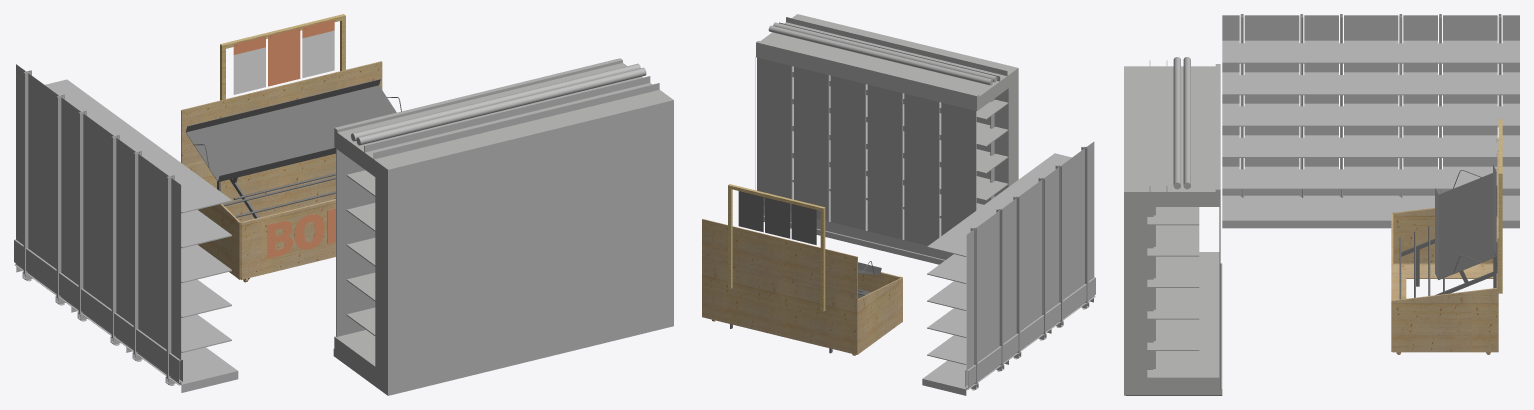
File: supermarket.dae
3 renders of one model, left to right at view 1: azimuth 30°, elevation 25°; view 2: azimuth 150°, elevation 25°; view 3: azimuth 270°, elevation 25°, orthographic. The views are drawn at different scales.
Parts seen in each view (by area): view 1: AH_Koeling_002, Aktie_tafe, AH_Koeling, AH_Koeling_001, AH_Stellin_001, AH_Stellin, AH_Stellin_002, AH_Koeli01_002; view 2: Aktie_tafe, AH_Koeling_002, AH_Koeling_001, AH_Koeling, AH_Stellin_002, AH_Stellin, AH_Stellin_001, AH_Koeli01_002, AH_Koeli01, AH_Koeli01_001; view 3: AH_Stellin_001, AH_Stellin, AH_Stellin_002, Aktie_tafe, AH_Koeling, AH_Koeli01, AH_Koeling_002, AH_Koeling_001.
Boxes of the visible parts, <box> form: AH_Koeling_002: <box>333,104,483,395</box>; Aktie_tafe: <box>181,14,401,282</box>; AH_Koeling: <box>525,58,673,349</box>; AH_Koeling_001: <box>430,81,578,372</box>; AH_Stellin_001: <box>124,144,238,392</box>; AH_Stellin: <box>69,104,176,345</box>; AH_Stellin_002: <box>14,64,121,305</box>; AH_Koeli01_002: <box>346,170,375,335</box>; Aktie_tafe: <box>702,184,902,355</box>; AH_Koeling_002: <box>902,50,1018,264</box>; AH_Koeling_001: <box>829,32,944,255</box>; AH_Koeling: <box>755,14,870,237</box>; AH_Stellin_002: <box>922,204,1010,395</box>; AH_Stellin: <box>970,172,1053,359</box>; AH_Stellin_001: <box>1012,141,1095,333</box>; AH_Koeli01_002: <box>939,99,1008,216</box>; AH_Koeli01: <box>792,66,830,189</box>; AH_Koeli01_001: <box>866,84,904,207</box>; AH_Stellin_001: <box>1222,14,1321,228</box>; AH_Stellin: <box>1321,14,1420,228</box>; AH_Stellin_002: <box>1420,14,1519,228</box>; Aktie_tafe: <box>1391,119,1502,354</box>; AH_Koeling: <box>1124,140,1222,395</box>; AH_Koeli01: <box>1147,207,1199,350</box>; AH_Koeling_002: <box>1124,57,1222,305</box>; AH_Koeling_001: <box>1124,98,1222,347</box>.
Size of the model in its own units: 4.64 by 3.99 by 2.37.
